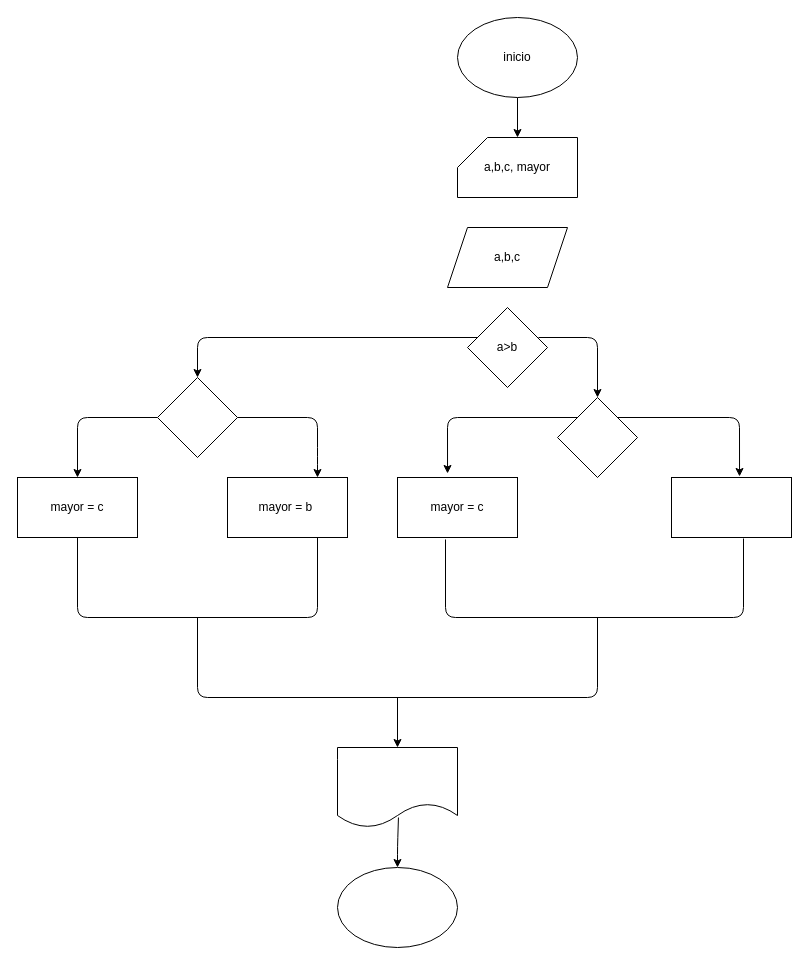
Some shapes in this 809 by 965 pixel diagram are drawn without their labels. Here are the shapes that lost their labels. From the top down, the centre of each, then its label:
[197,417]: b>c
[597,437]: a>c
[731,507]: mayor = a
[397,787]: mayor
